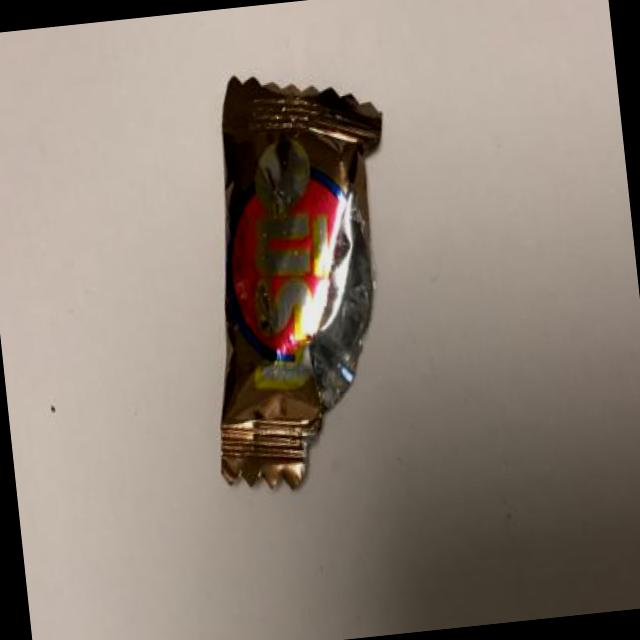bao_bi_thuc_pham: (221, 79, 382, 490)
